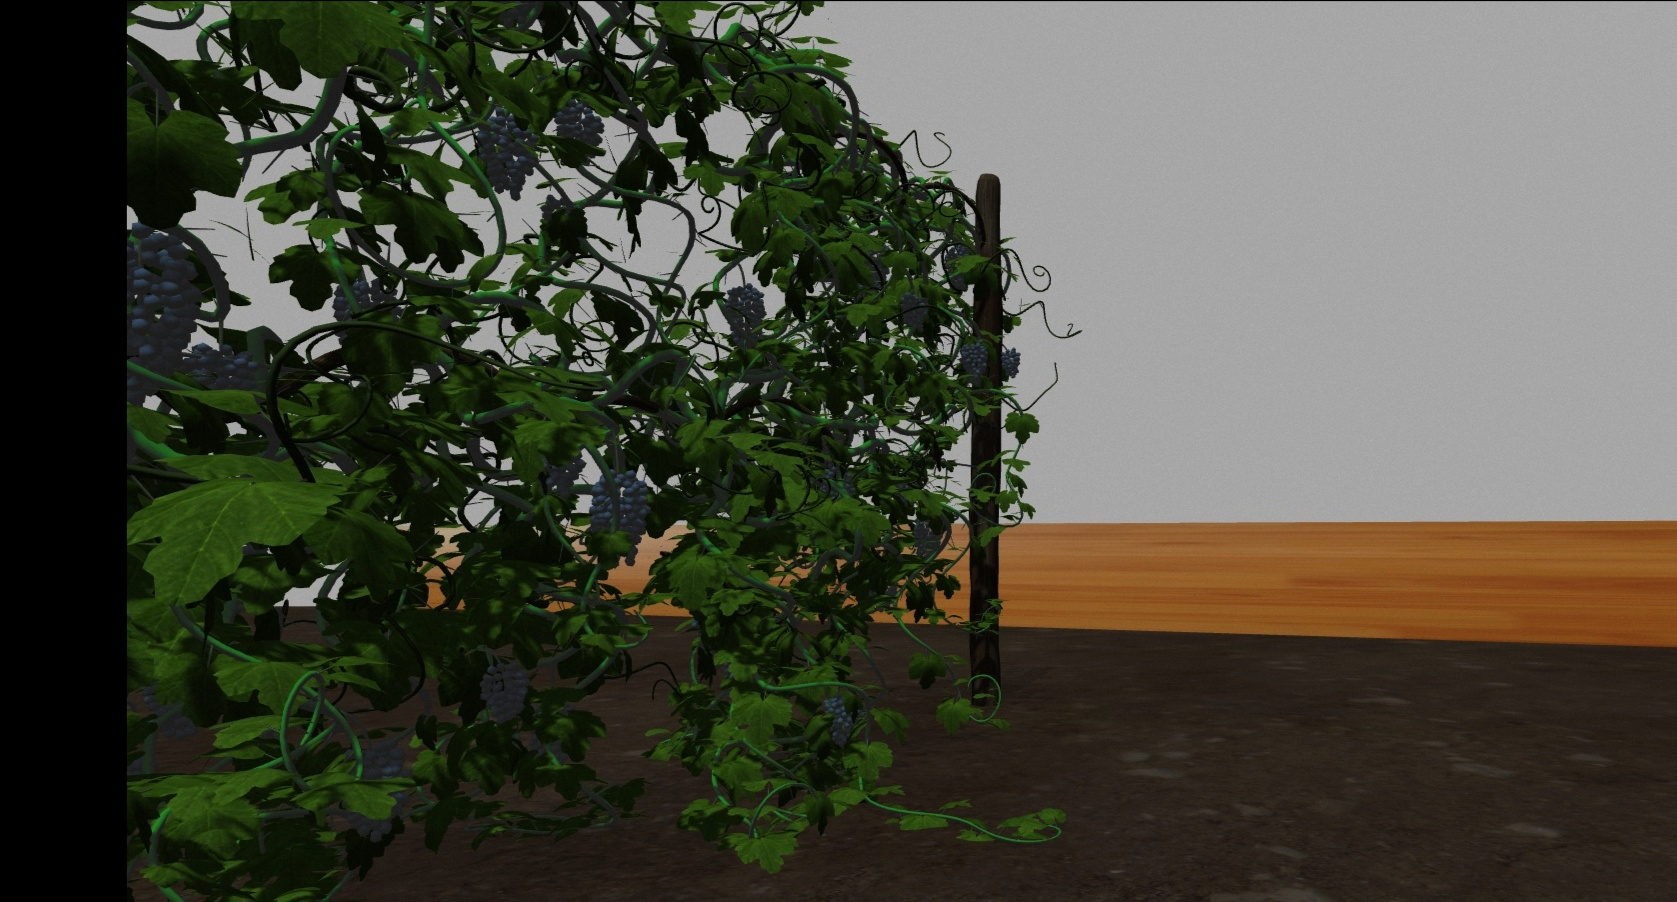grape: (127, 221, 202, 405), (337, 736, 413, 844), (586, 468, 649, 565), (475, 109, 538, 199), (183, 345, 255, 395), (479, 663, 528, 726), (553, 99, 603, 151), (727, 281, 765, 348), (819, 693, 851, 746), (942, 244, 970, 295), (960, 338, 988, 385), (898, 289, 928, 331), (913, 522, 942, 565), (1000, 347, 1020, 378)
